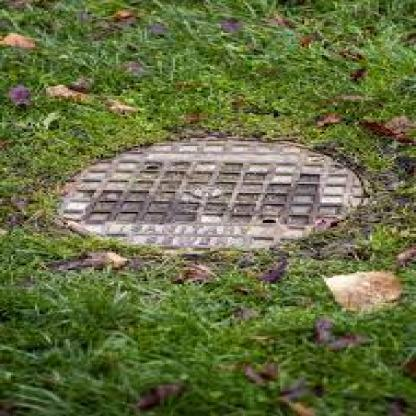closed manhole-not overflowing-: (52, 136, 365, 262)
